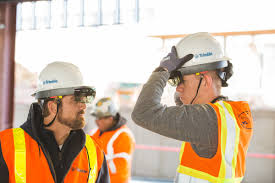hololens: (166, 59, 232, 88), (31, 84, 95, 105)
